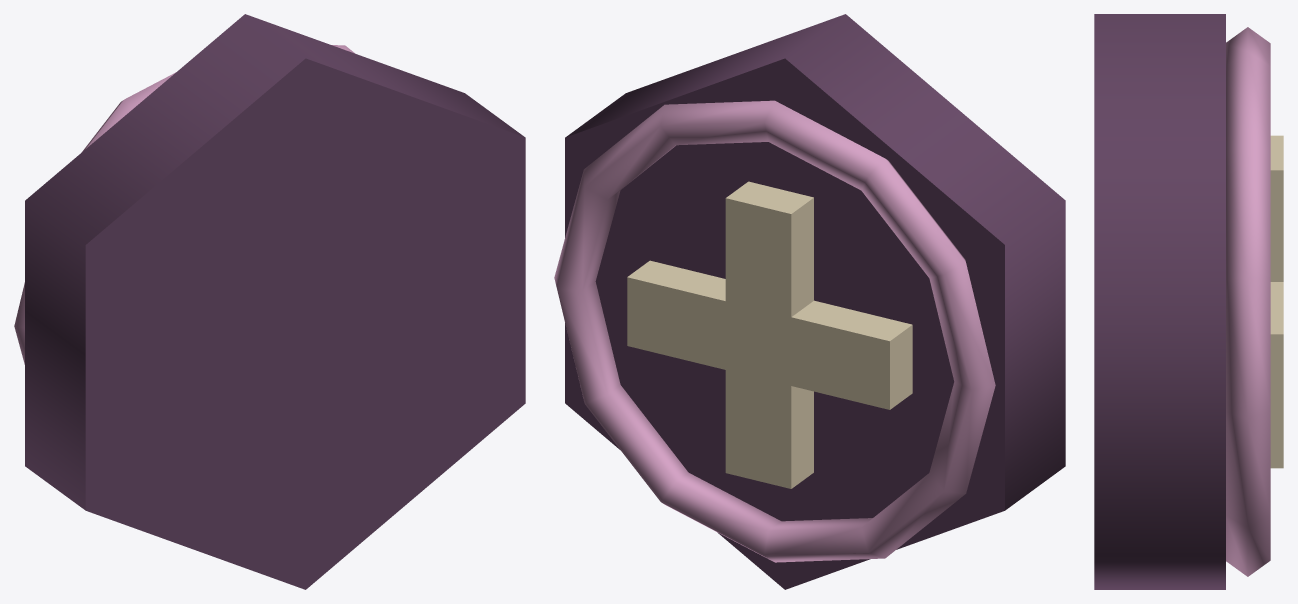
The model's file is token.glb.
The picture shows the model from 3 angles, left to right: view 1: azimuth 30°, elevation 25°; view 2: azimuth 150°, elevation 25°; view 3: azimuth 270°, elevation 25°; orthographic projection. The views are drawn at different scales.
Parts seen in each view (by area): view 1: item-token; view 2: item-token; view 3: item-token.
Boxes of the visible parts, x1,y1,x2,y2 form: item-token: (14,14,525,589); item-token: (554,14,1065,589); item-token: (1094,14,1283,589).
Bounding box in the file's own units: 0.504 × 0.58 × 0.1725.
